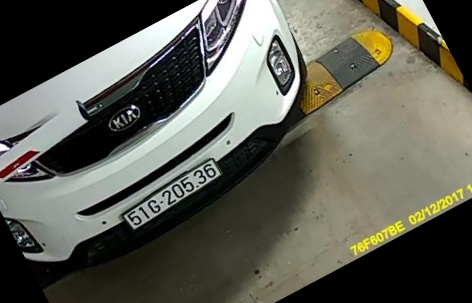plate: (118, 157, 222, 231)
